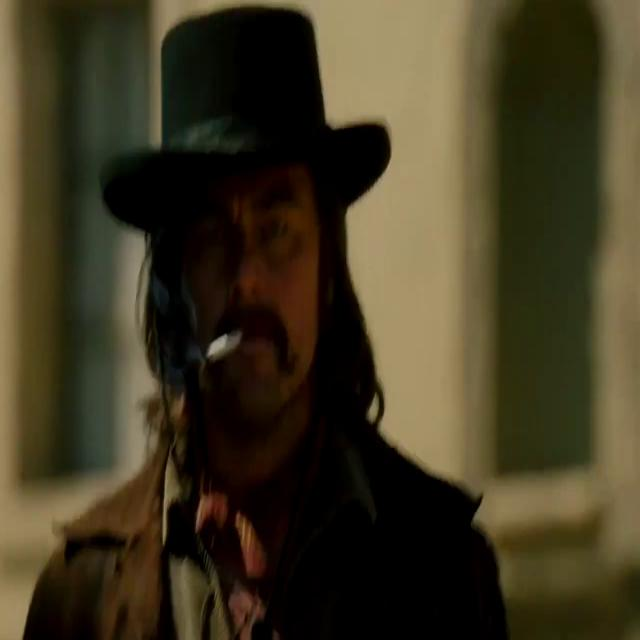Smooking: (195, 319, 245, 366)
